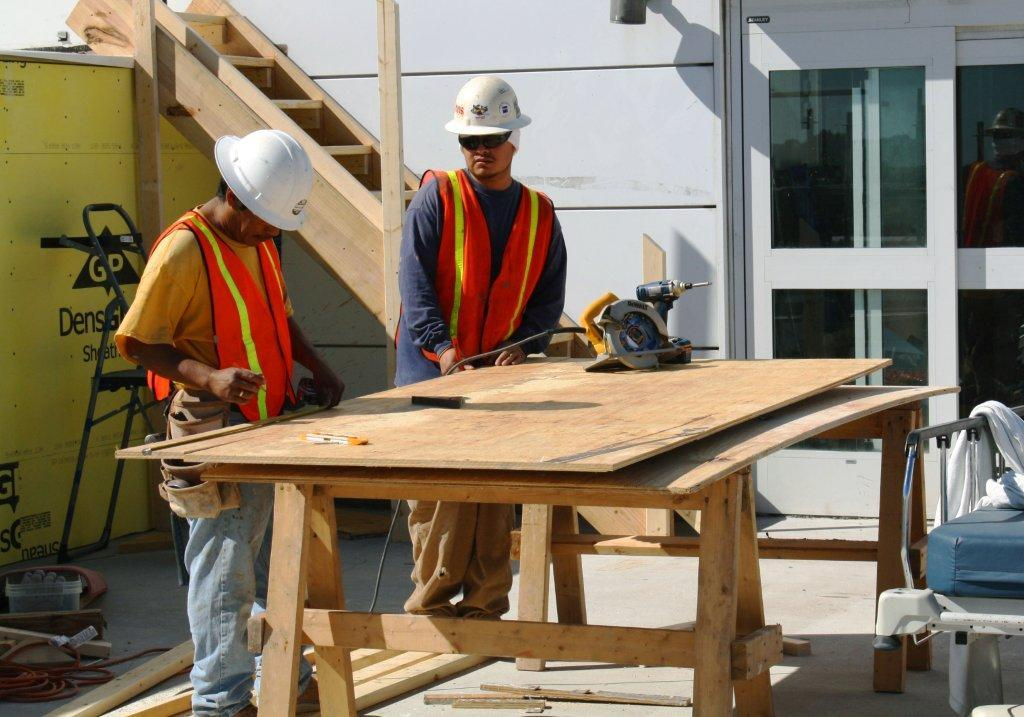face: (460, 106, 514, 174)
